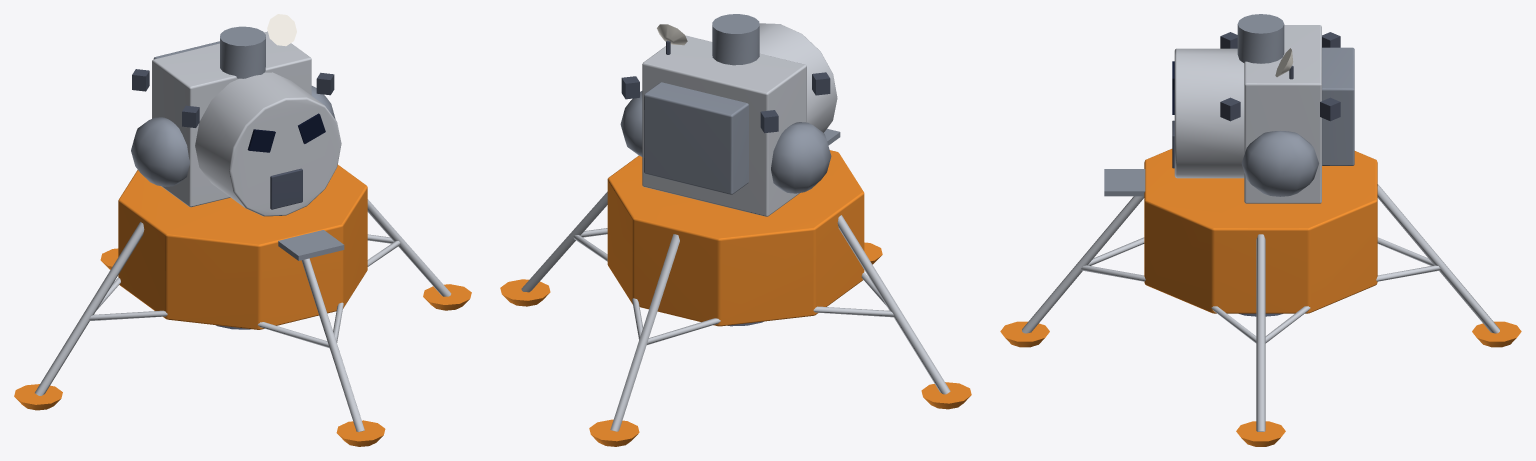
Rendered from Ship_LM.glb.
3 views of the same model, side by side, from view 1: azimuth 30°, elevation 25°; view 2: azimuth 150°, elevation 25°; view 3: azimuth 270°, elevation 25° (orthographic). The views are drawn at different scales.
Visible parts, largest first — view 1: Ship_LM.Descent, Ship_LM.Cabin, Ship_LM.Mid, Ship_LM.Legs, Ship_LM.Tank0, Ship_LM.Pads, Ship_LM.DockTunnel, Ship_LM.Porch, Ship_LM.Hatch, Ship_LM.Jets, Ship_LM.Dish, Ship_LM.Window0 (+1 smaller); view 2: Ship_LM.Descent, Ship_LM.Mid, Ship_LM.AftBay, Ship_LM.Legs, Ship_LM.Tank0, Ship_LM.Cabin, Ship_LM.Pads, Ship_LM.DockTunnel, Ship_LM.Jets, Ship_LM.Tank1, Ship_LM.Dish; view 3: Ship_LM.Descent, Ship_LM.Cabin, Ship_LM.Mid, Ship_LM.Legs, Ship_LM.Tank1, Ship_LM.AftBay, Ship_LM.Pads, Ship_LM.DockTunnel, Ship_LM.Jets, Ship_LM.Porch.
Boxes of the visible parts, x1,y1,x2,y2 form: Ship_LM.Descent: (118,164,367,329); Ship_LM.Cabin: (195,72,341,216); Ship_LM.Mid: (152,31,311,207); Ship_LM.Legs: (35,199,451,432); Ship_LM.Tank0: (131,117,189,186); Ship_LM.Pads: (14,248,471,446); Ship_LM.DockTunnel: (220,26,265,78); Ship_LM.Porch: (278,230,344,260); Ship_LM.Hatch: (270,168,302,209); Ship_LM.Jets: (132,69,334,127); Ship_LM.Dish: (267,14,296,46); Ship_LM.Window0: (247,129,275,152); Ship_LM.Descent: (607,150,864,326); Ship_LM.Mid: (642,35,806,216); Ship_LM.AftBay: (644,82,748,194); Ship_LM.Legs: (521,191,950,431); Ship_LM.Tank0: (771,122,831,193); Ship_LM.Cabin: (759,23,837,132); Ship_LM.Pads: (500,242,971,446); Ship_LM.DockTunnel: (712,14,759,65); Ship_LM.Jets: (621,72,830,133); Ship_LM.Tank1: (620,91,642,156); Ship_LM.Dish: (657,24,687,54); Ship_LM.Descent: (1144,149,1377,313); Ship_LM.Cabin: (1174,48,1244,178); Ship_LM.Mid: (1244,25,1321,203); Ship_LM.Legs: (1022,184,1499,431); Ship_LM.Tank1: (1241,131,1318,196); Ship_LM.AftBay: (1322,47,1354,165); Ship_LM.Pads: (1000,321,1521,446); Ship_LM.DockTunnel: (1237,14,1284,63); Ship_LM.Jets: (1220,32,1340,121); Ship_LM.Porch: (1104,169,1145,196).
Bounding box in the file's own units: 9.36 × 6.3 × 9.4.
1 material, 1 textured.
